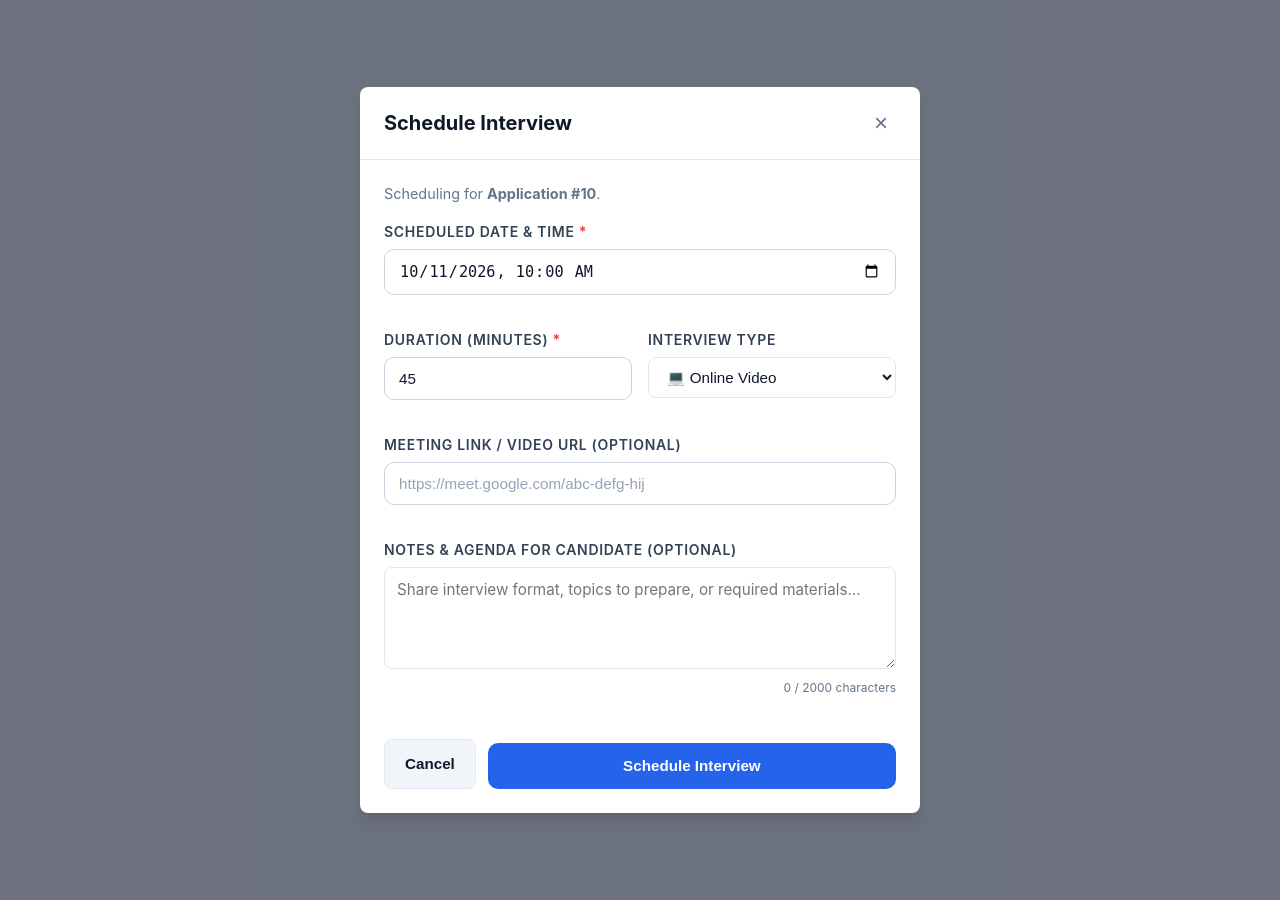
Test: ScheduleInterviewModal Component › displays client validation error when duration is invalid
This screenshot has width=1280, height=900.
Replace the text in the number field labelled "Duration (Minutes) *" with "0". click: [508, 378]
box: [384,357,632,400]
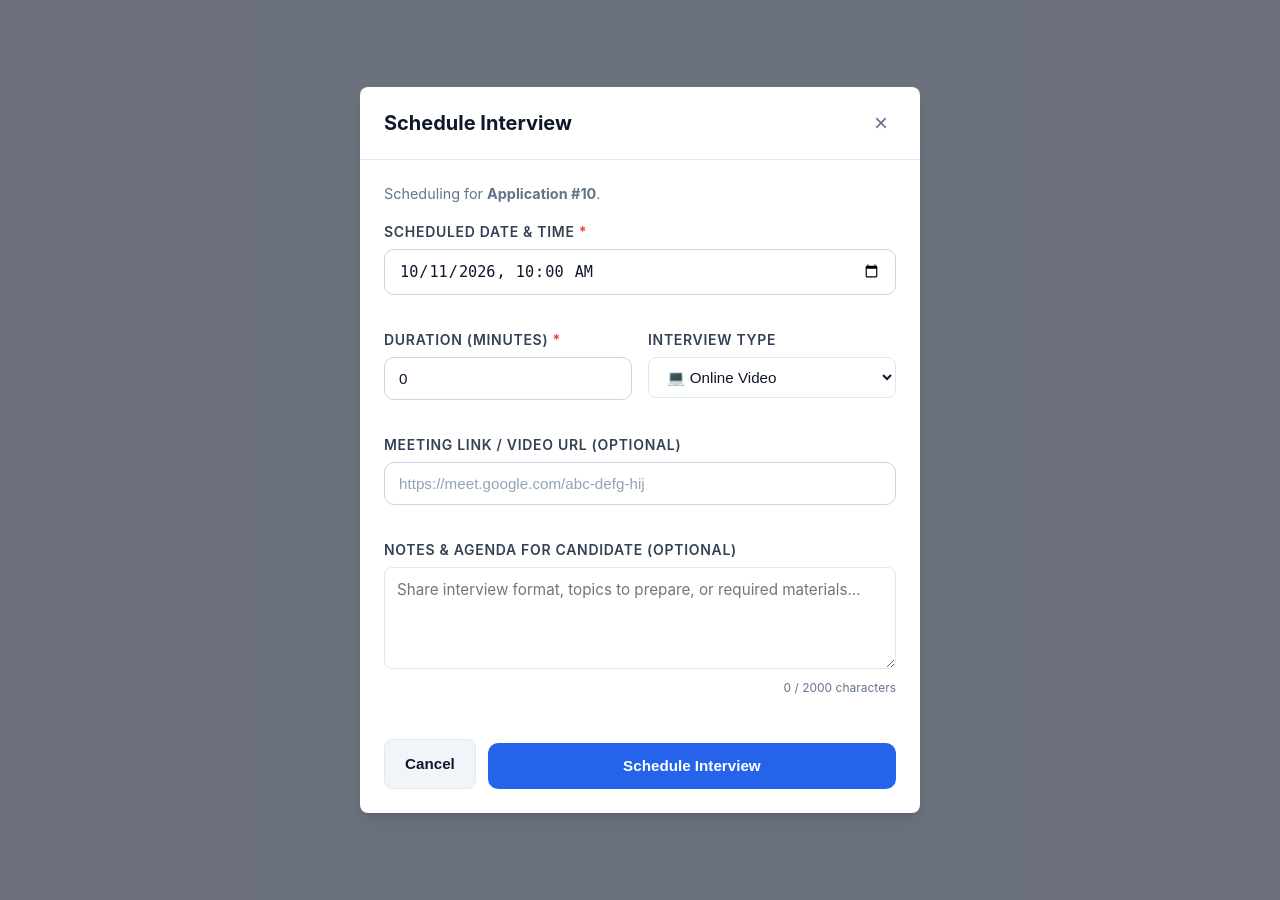
Click the button with test id "submit-schedule-interview-btn". click: [692, 766]
box: [488,743,896,789]
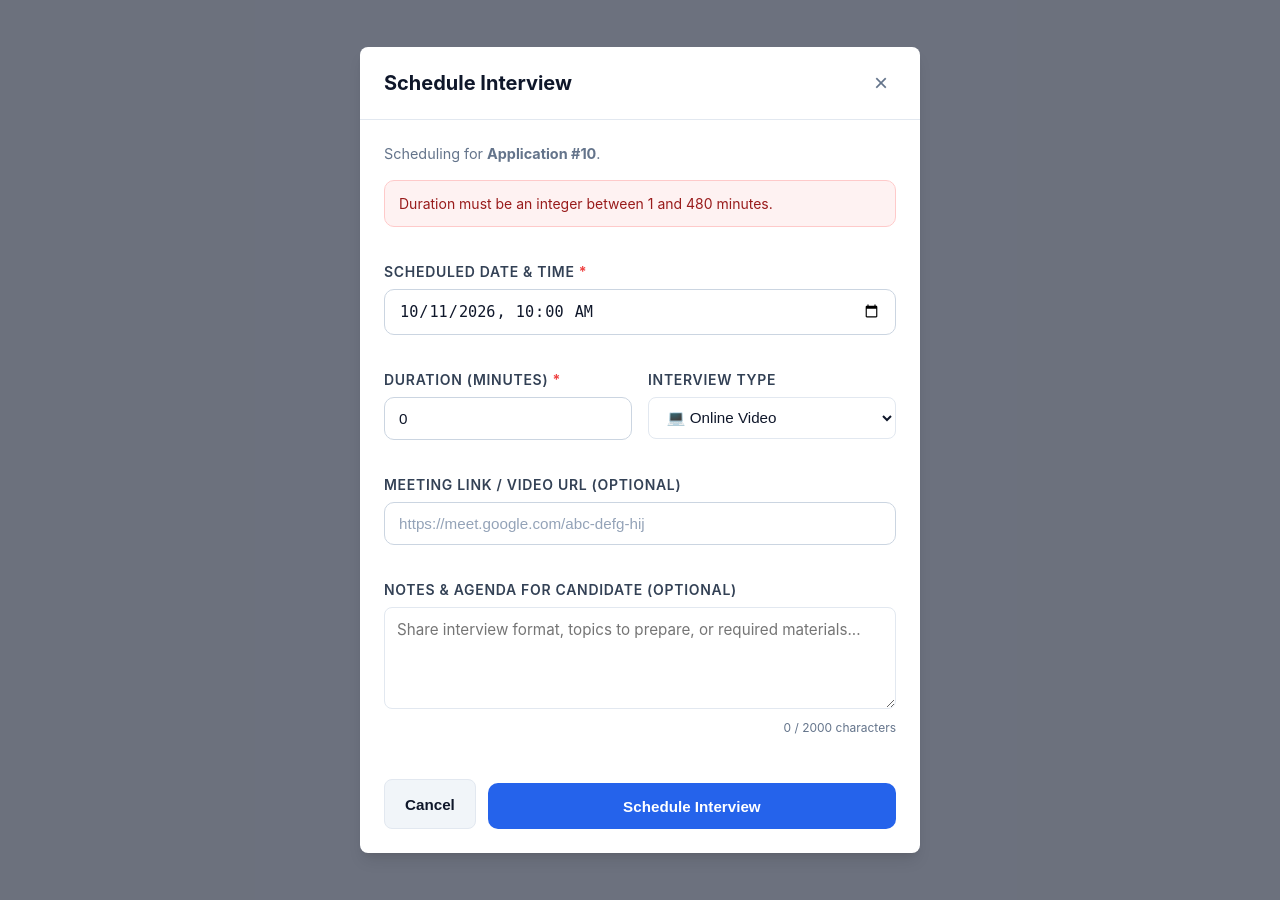
Check: the message shows "Duration must be an integer between 1 and 480", box [399,195,773,212]
